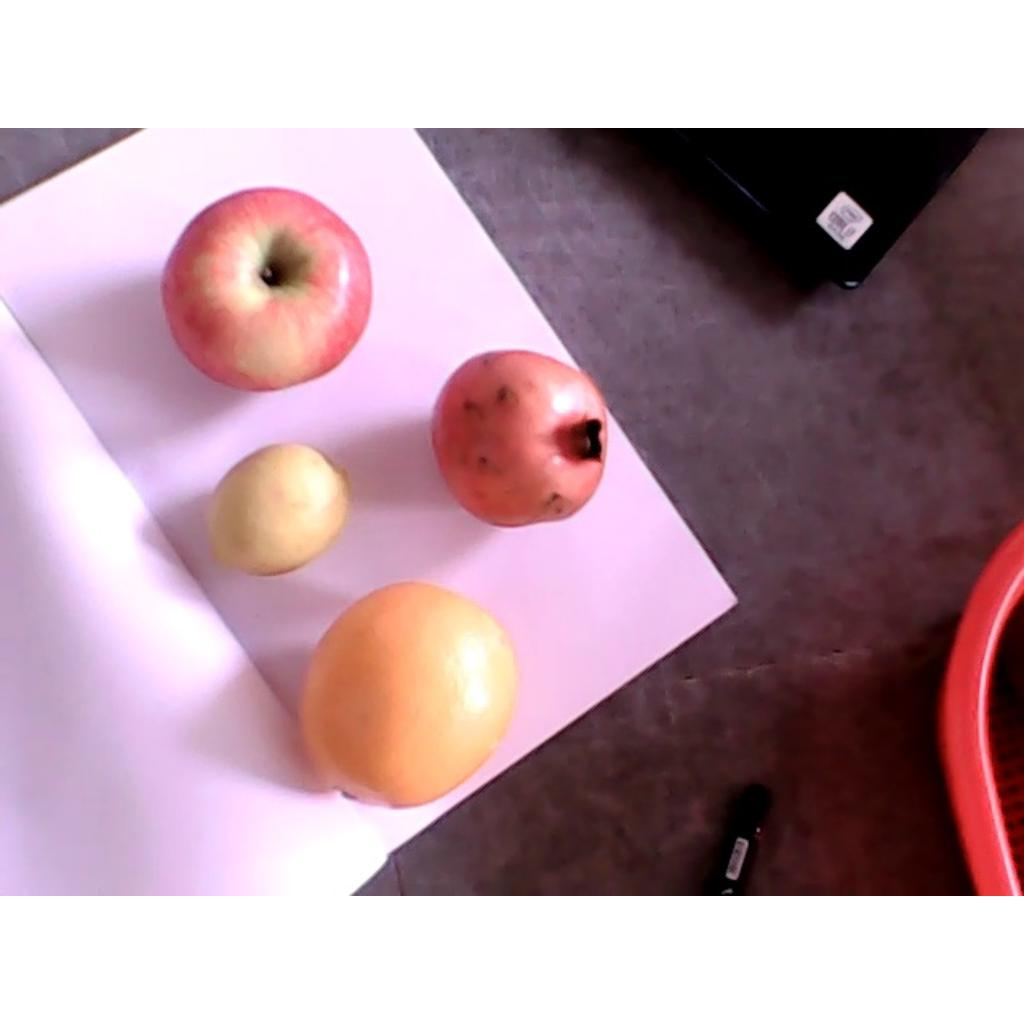apple: (162, 188, 373, 392)
lemon: (209, 444, 349, 574)
orange: (295, 578, 518, 807)
pomegranate: (432, 349, 609, 527)
